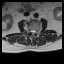CCS_normal: (32, 28, 34, 37)
LFS_normal: (36, 28, 37, 35)
LLS_normal: (34, 28, 36, 35)
RFS_normal: (28, 28, 30, 34)
RLS_normal: (30, 28, 32, 34)
